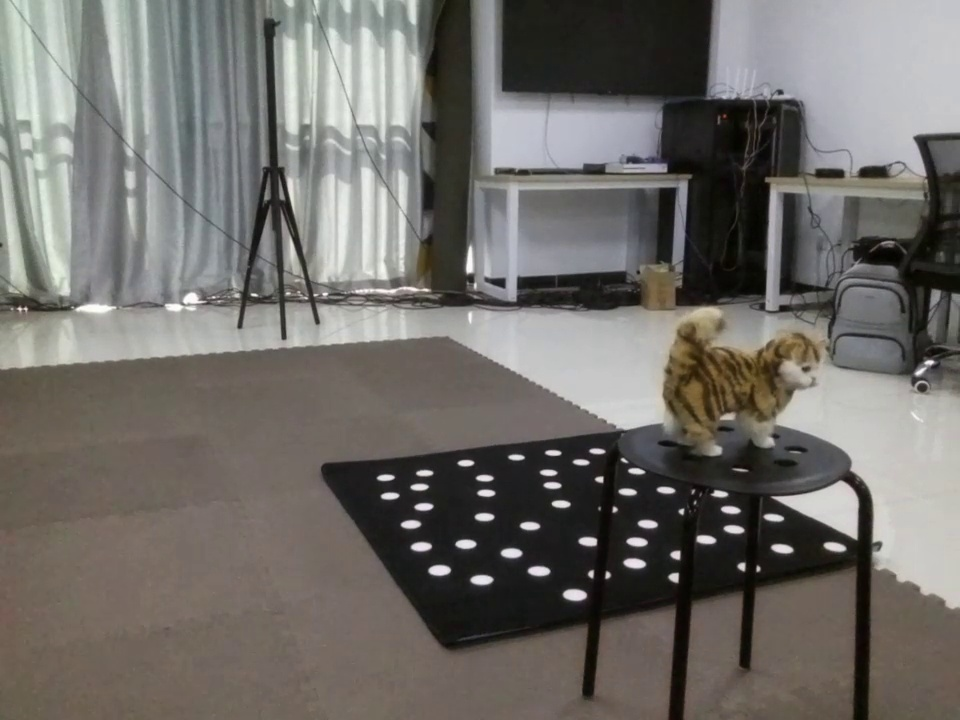cat: (631, 303, 844, 456)
